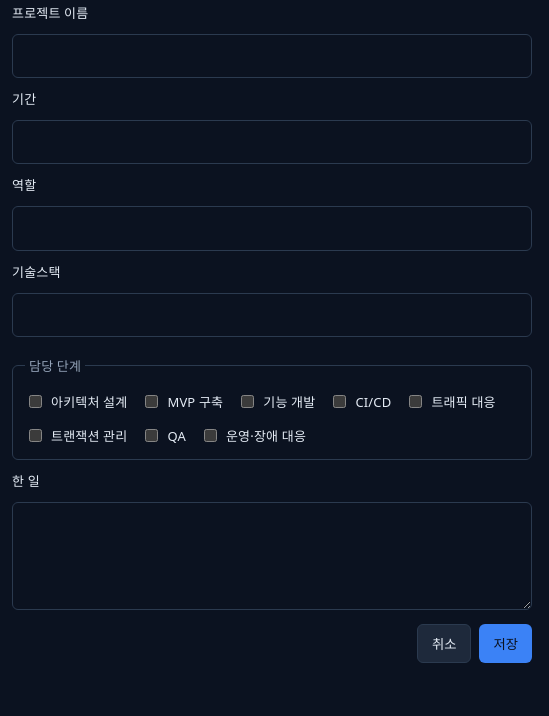
Test: ProjectForm › adds and removes stack chips
The image size is (549, 716).
Step 1. Type "Redis" into the field labelled "기술스택" → (272, 315), box x1=12 y1=293 x2=532 y2=337
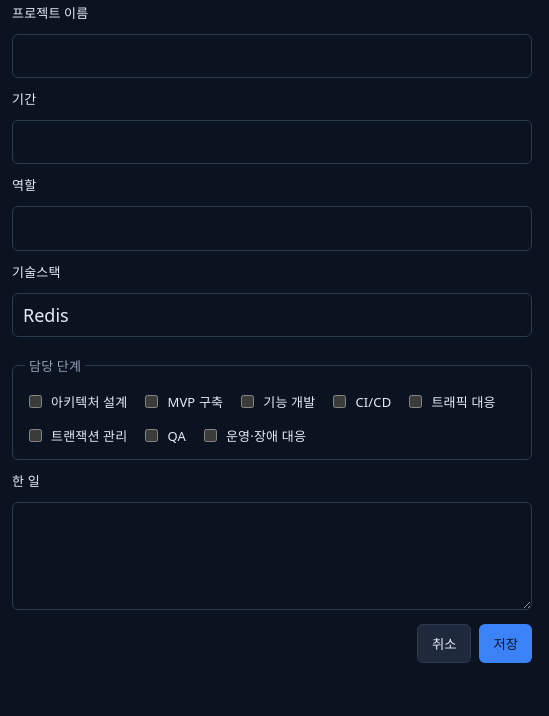
Step 2. Press Enter in the field labelled "기술스택", box x1=12 y1=293 x2=532 y2=337
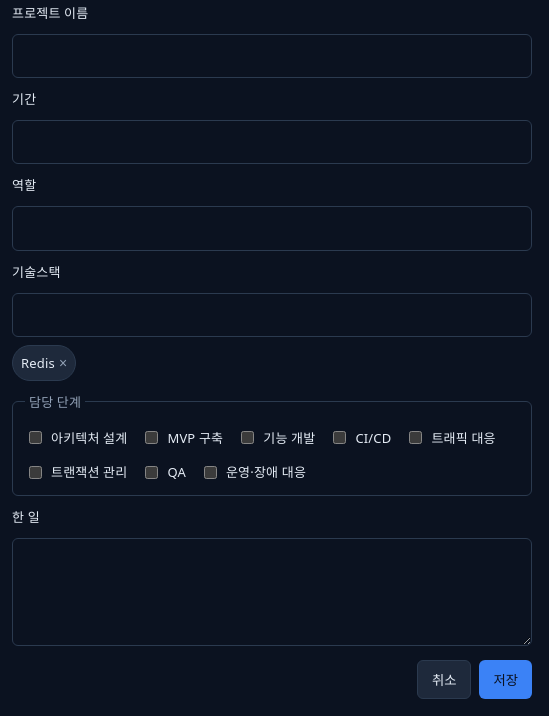
Check: the text "Redis" is shown, box x1=21 y1=354 x2=55 y2=372
# 중복은 무시한다 — 칩이 두 개가 되면 matchLocal이 같은 노드를 두 번 본다.
Step 3. Type "Redis" into the field labelled "기술스택" → (272, 315), box x1=12 y1=293 x2=532 y2=337
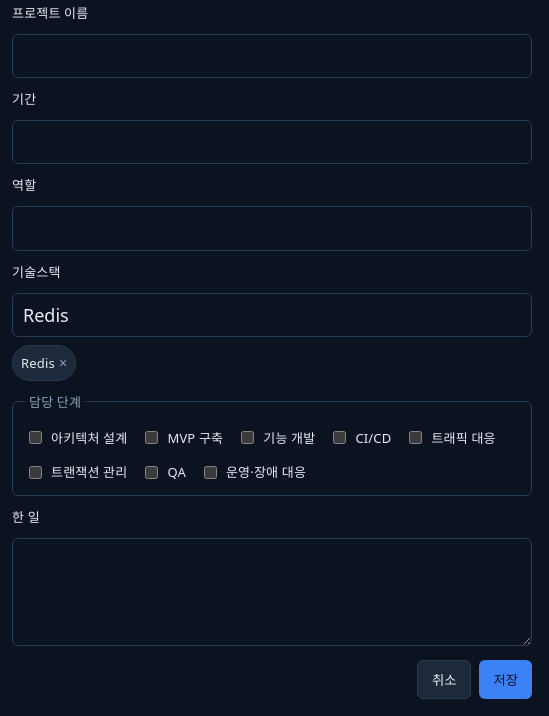
Step 4. Press Enter in the field labelled "기술스택", box x1=12 y1=293 x2=532 y2=337
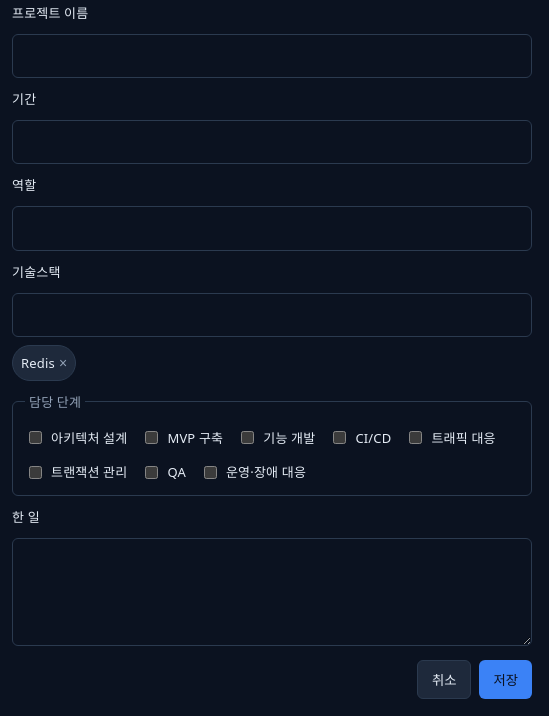
Check: the text "Redis" is shown once, box x1=12 y1=345 x2=76 y2=381
Step 5. Click the button named "Redis 삭제" → click(63, 363), box x1=59 y1=356 x2=67 y2=370
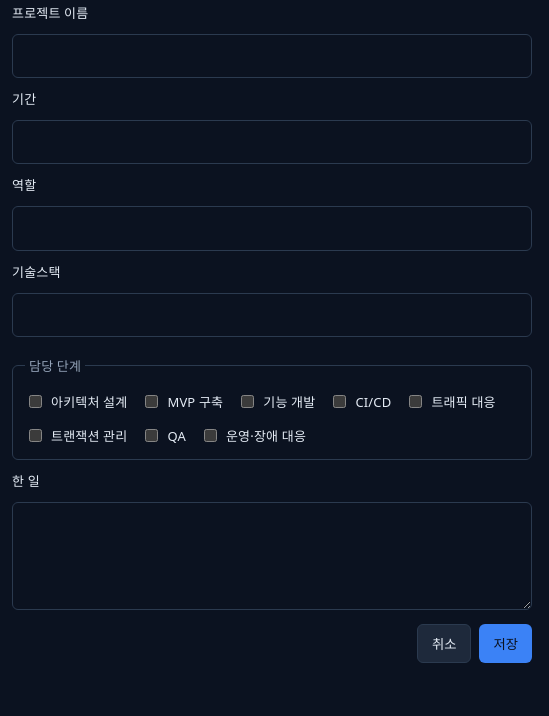
Check: the text "Redis" is gone
